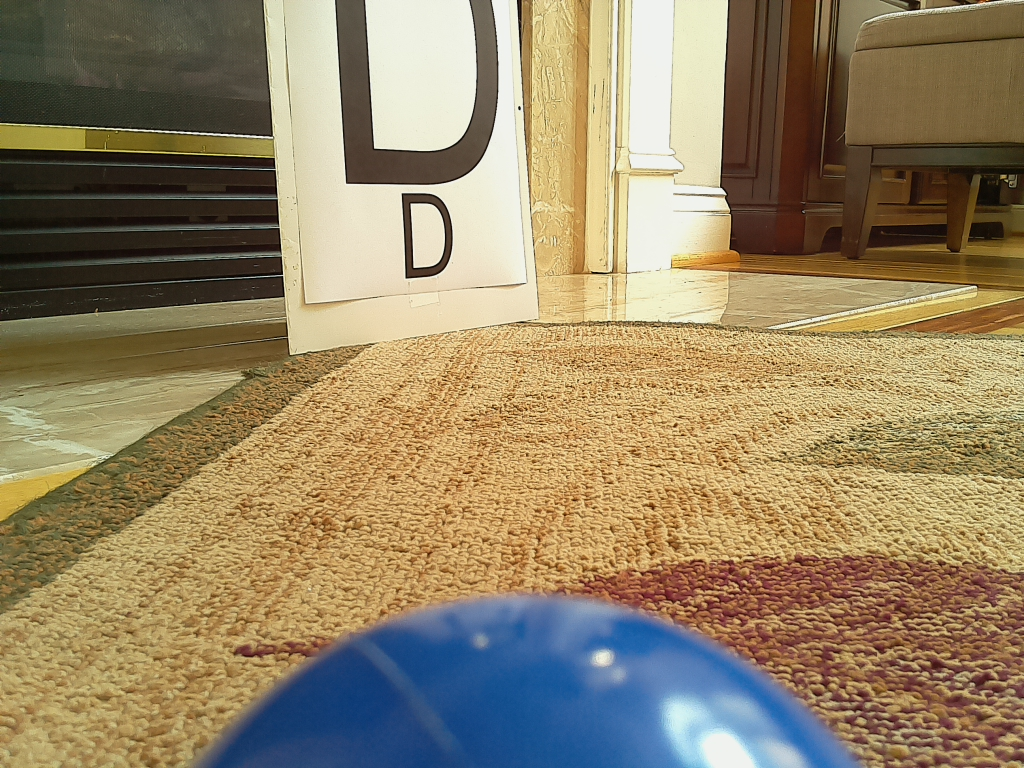letter: (405, 193, 453, 278)
